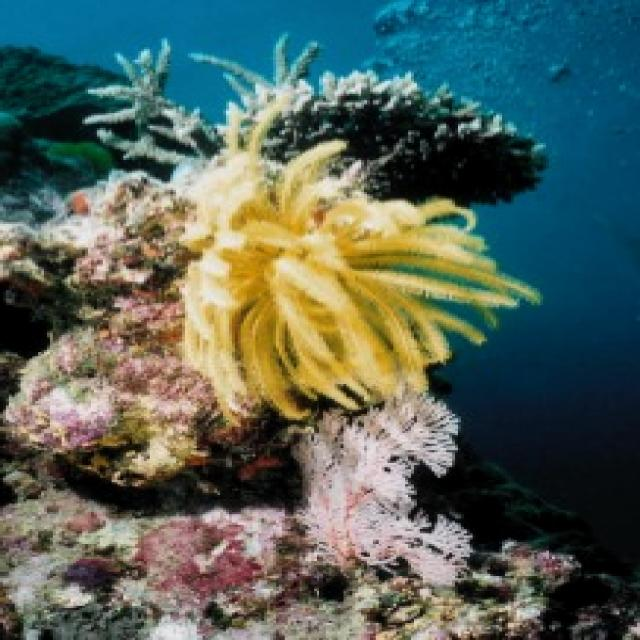Coral: (159, 139, 547, 420), (198, 70, 546, 207), (272, 389, 473, 589), (72, 32, 205, 190), (185, 32, 321, 112)
